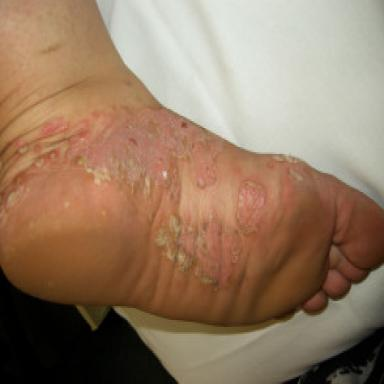eczema: (8, 107, 227, 200), (155, 213, 241, 290), (236, 181, 265, 236), (0, 169, 31, 220), (268, 154, 324, 181)
